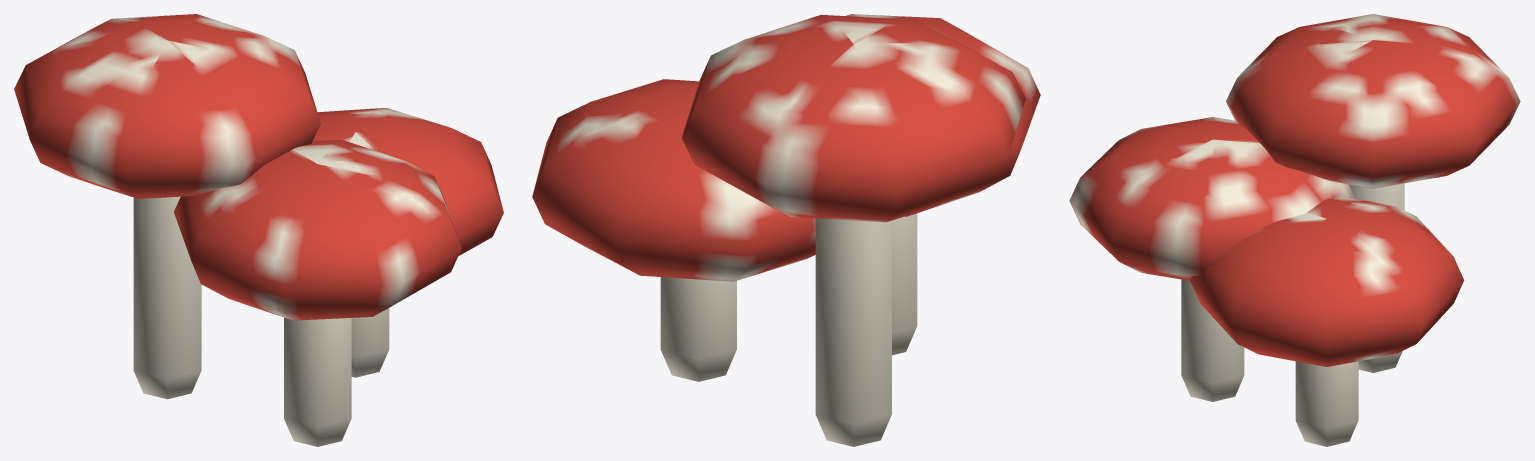
File: prop_shroom3_7d72.glb
3 views of the same model, side by side, from view 1: azimuth 30°, elevation 25°; view 2: azimuth 150°, elevation 25°; view 3: azimuth 270°, elevation 25° (orthographic). The views are drawn at different scales.
Visible parts, largest first — view 1: prop_shroom3_7d72; view 2: prop_shroom3_7d72; view 3: prop_shroom3_7d72.
Part boxes in pixels (box(x1,y1,x2,y2)): prop_shroom3_7d72: box(14, 14, 503, 446); prop_shroom3_7d72: box(532, 14, 1040, 446); prop_shroom3_7d72: box(1069, 14, 1520, 446).
Bounding box in the file's own units: 0.3975 × 0.3109 × 0.3833.
1 material, 1 textured.
